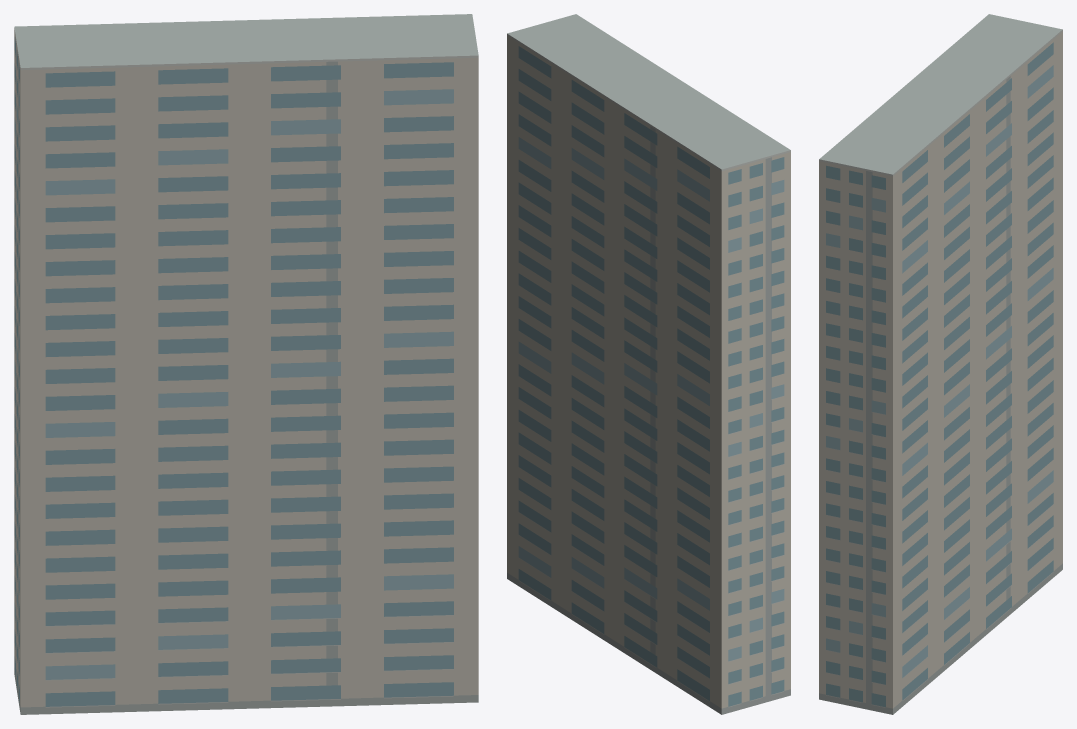
The model's file is residential-b8972ba3-e416-4114-adbb-53de6300d805.glb.
3 renders of one model, left to right at view 1: azimuth 30°, elevation 25°; view 2: azimuth 150°, elevation 25°; view 3: azimuth 270°, elevation 25°, orthographic. The views are drawn at different scales.
Parts seen in each view (by area): view 1: residential-b8972ba3-e416-4114-adbb-53de6300d805.tmp; view 2: residential-b8972ba3-e416-4114-adbb-53de6300d805.tmp; view 3: residential-b8972ba3-e416-4114-adbb-53de6300d805.tmp.
Boxes of the visible parts, bbox=[...] form: residential-b8972ba3-e416-4114-adbb-53de6300d805.tmp: bbox=[14, 14, 478, 714]; residential-b8972ba3-e416-4114-adbb-53de6300d805.tmp: bbox=[507, 14, 790, 714]; residential-b8972ba3-e416-4114-adbb-53de6300d805.tmp: bbox=[819, 14, 1062, 714].
Size of the model in its own units: 46.68 by 73.2 by 29.93.
